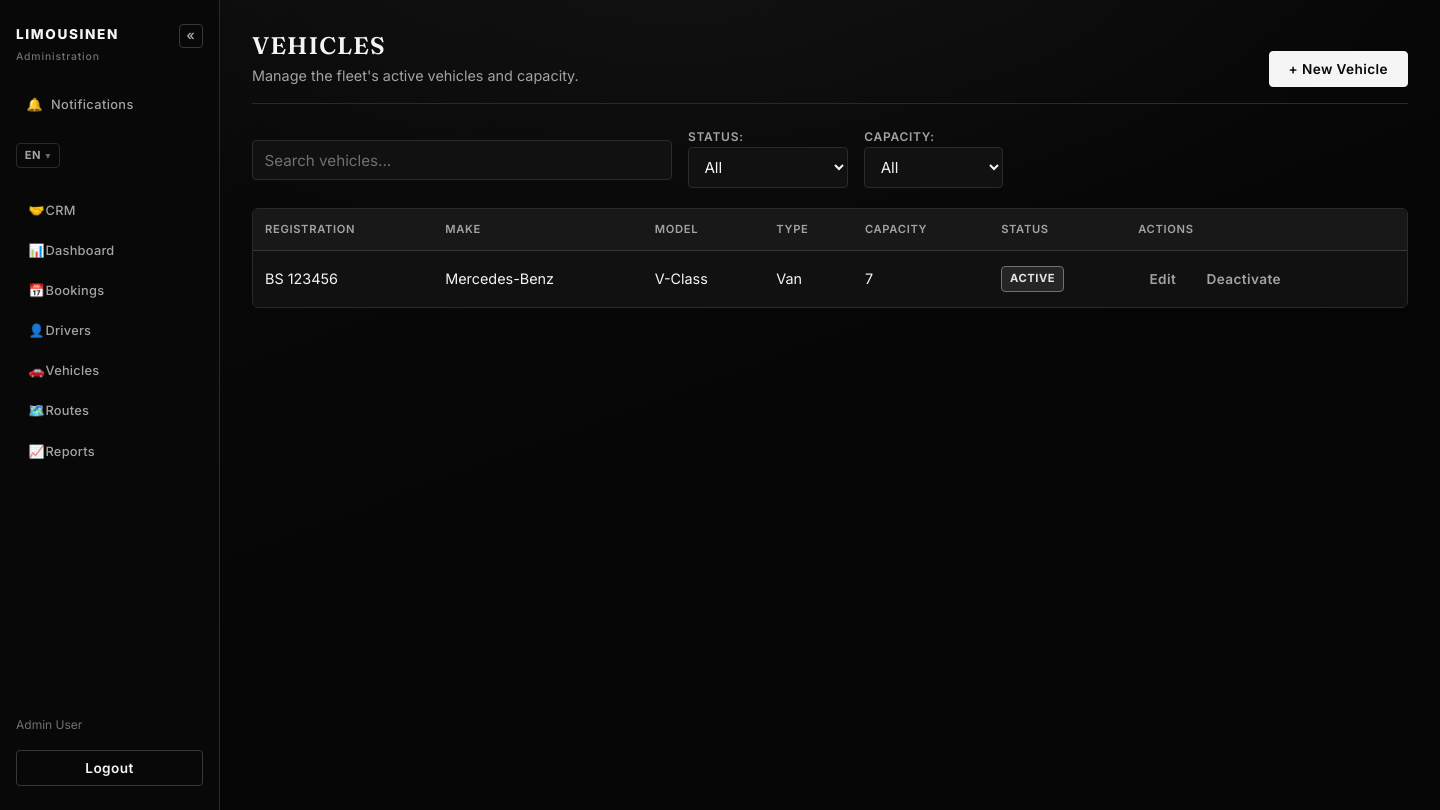
Test: VehiclesPage › edits an existing vehicle
Expected: the text "V-Class" is shown, [643,251,764,307]
Click the button "Edit": [1163, 279] box [1138,263,1187,295]
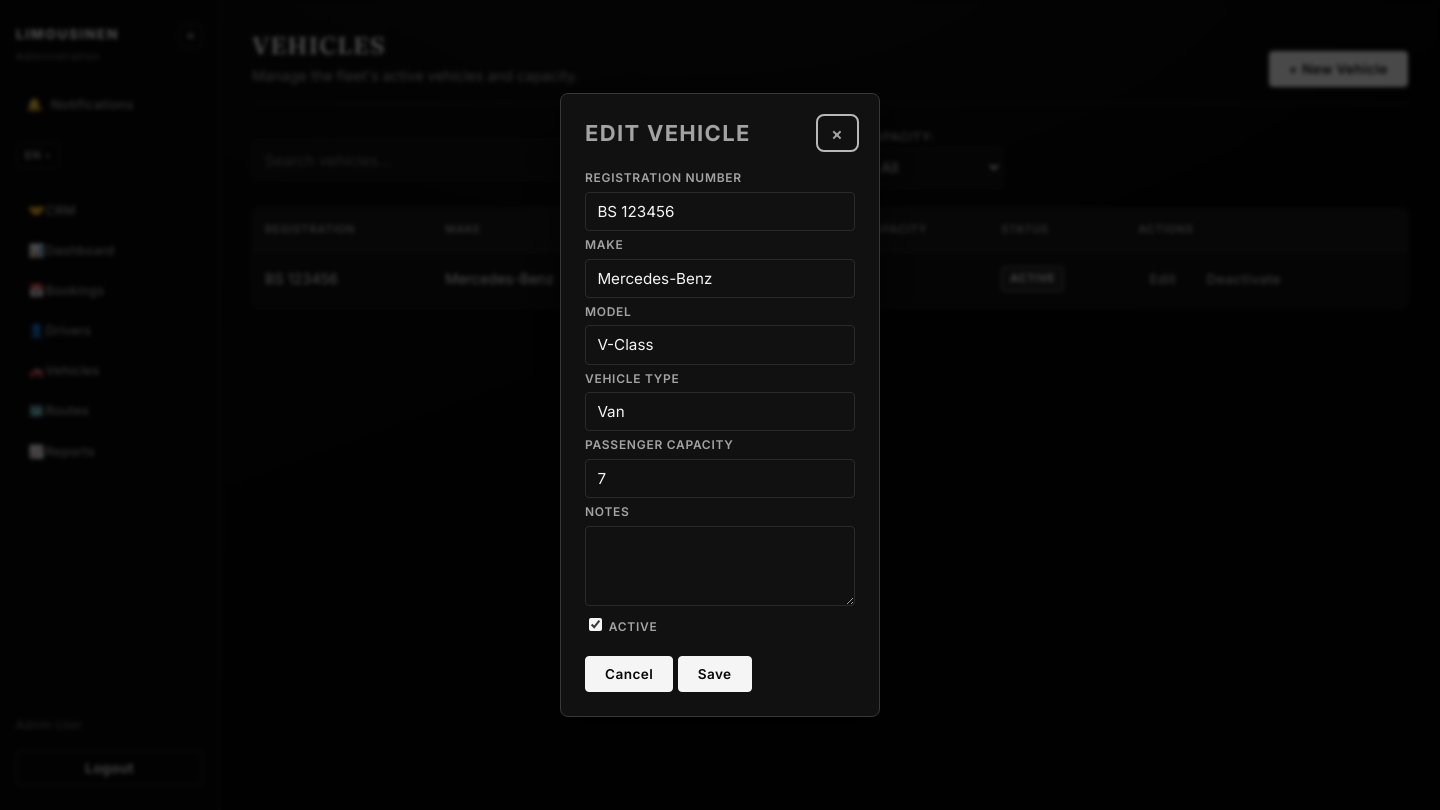
Replace the text in the field labelled "Model" with "S-Class": [720, 345] box [585,325,855,365]
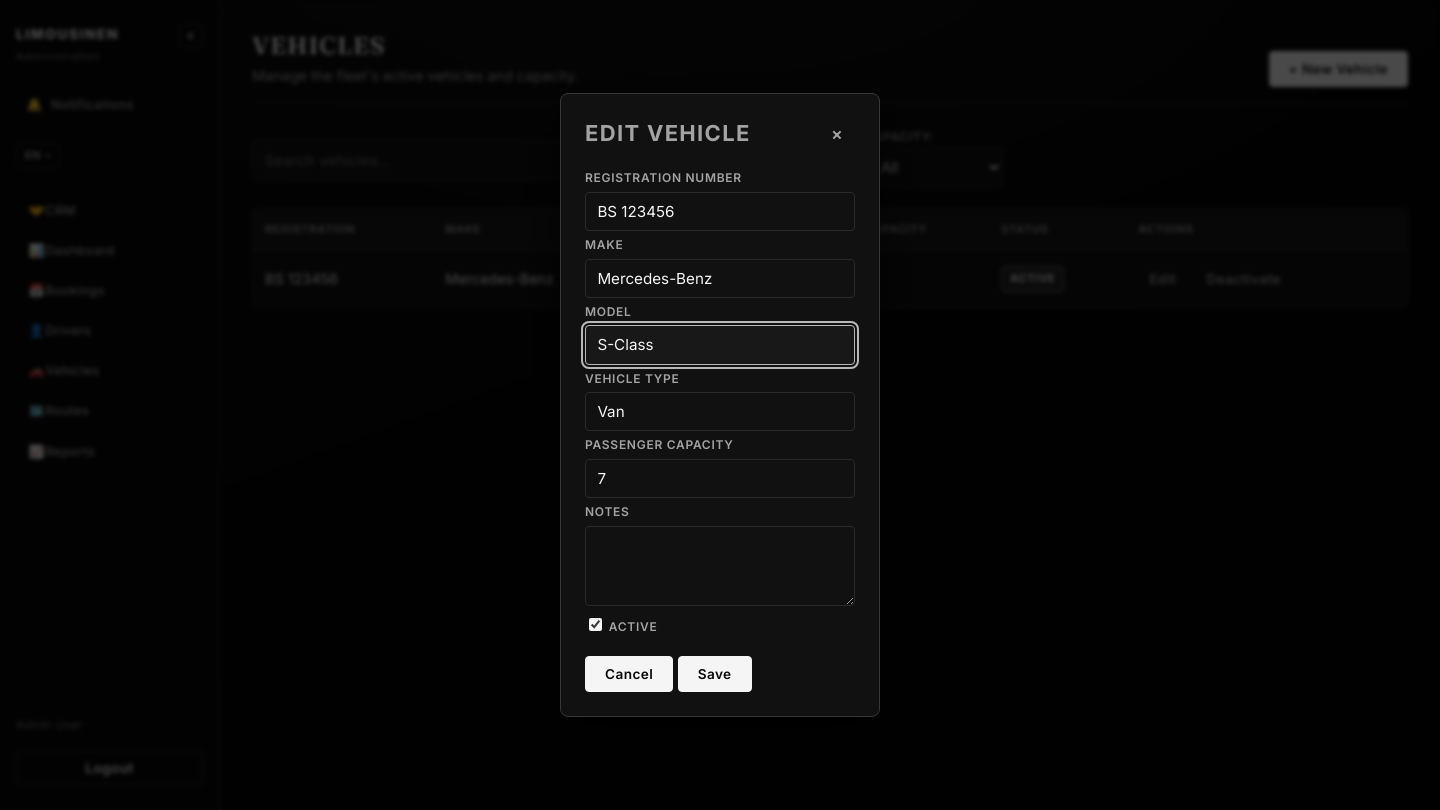
Click the button "Save": [715, 674] box [678,656,752,692]
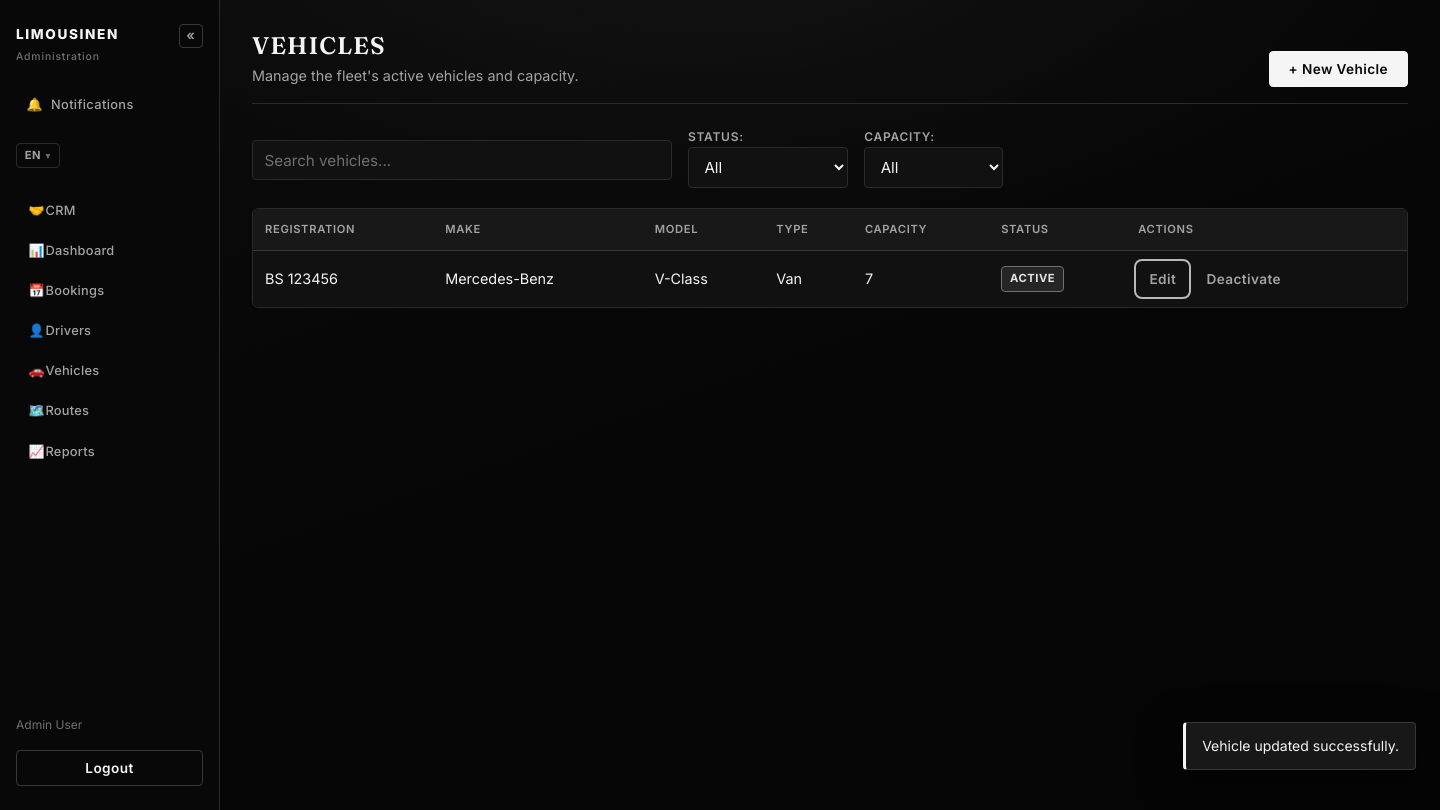
Expected: the message reads "Vehicle updated successfully.", [1202,737,1399,754]
